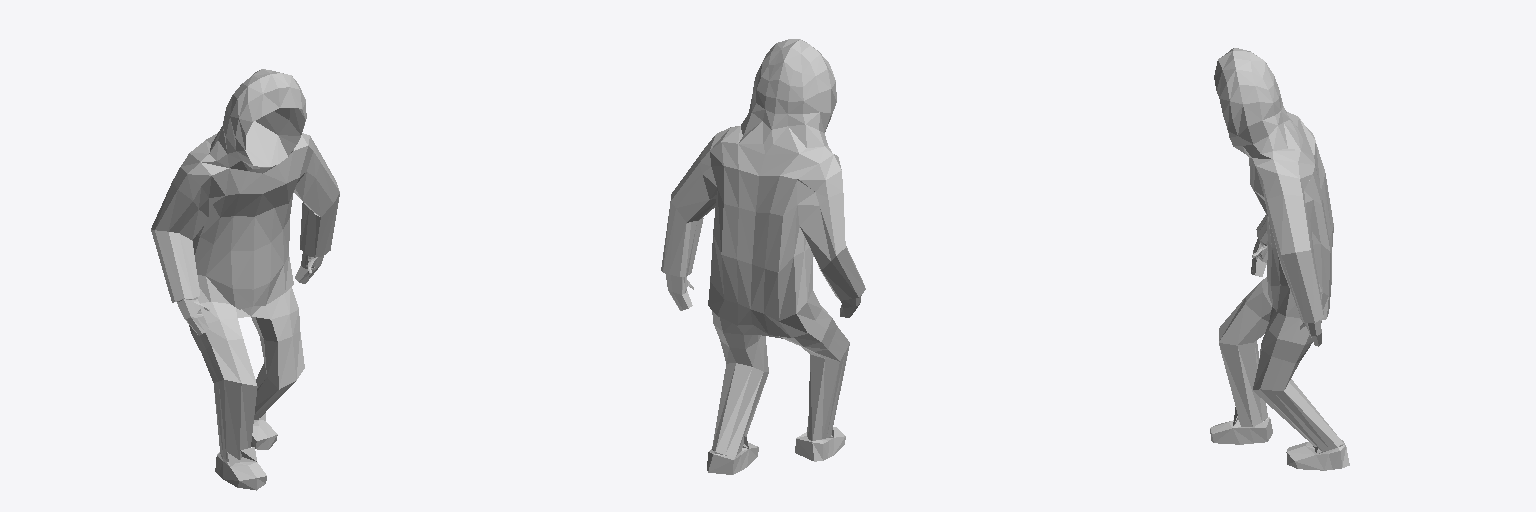
The model's file is Shadowmanv_000031.obj.
The picture shows the model from 3 angles: view 1: azimuth 30°, elevation 25°; view 2: azimuth 150°, elevation 25°; view 3: azimuth 270°, elevation 25°; orthographic projection.
Visible parts, largest first — view 1: Cube.000; view 2: Cube.000; view 3: Cube.000.
Part boxes in pixels (bbox=[...]): Cube.000: bbox=[151, 69, 339, 490]; Cube.000: bbox=[661, 39, 865, 474]; Cube.000: bbox=[1210, 48, 1349, 470].
Size of the model in its own units: 5.09 by 10.95 by 3.44.